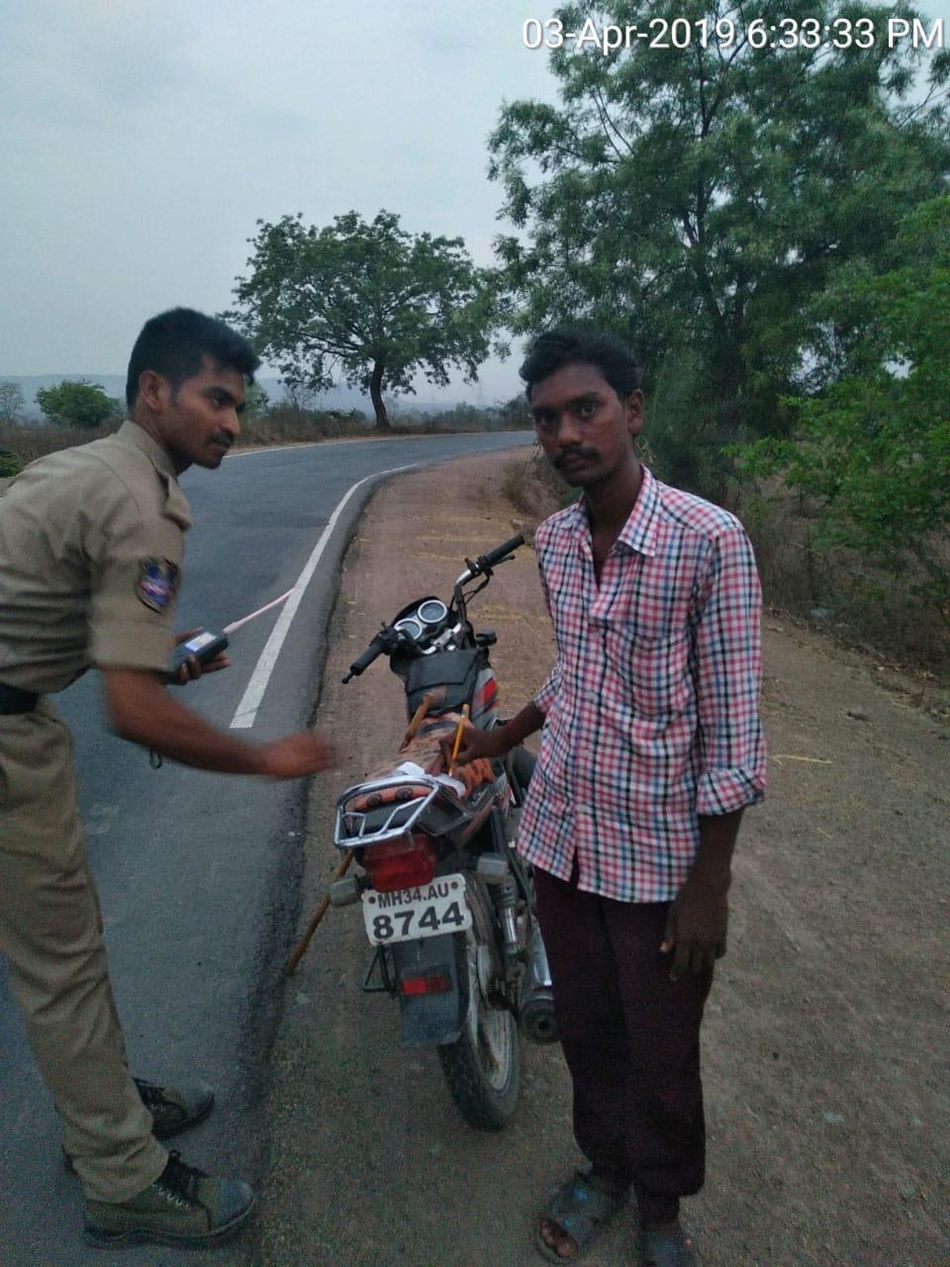plate: (353, 862, 487, 950)
